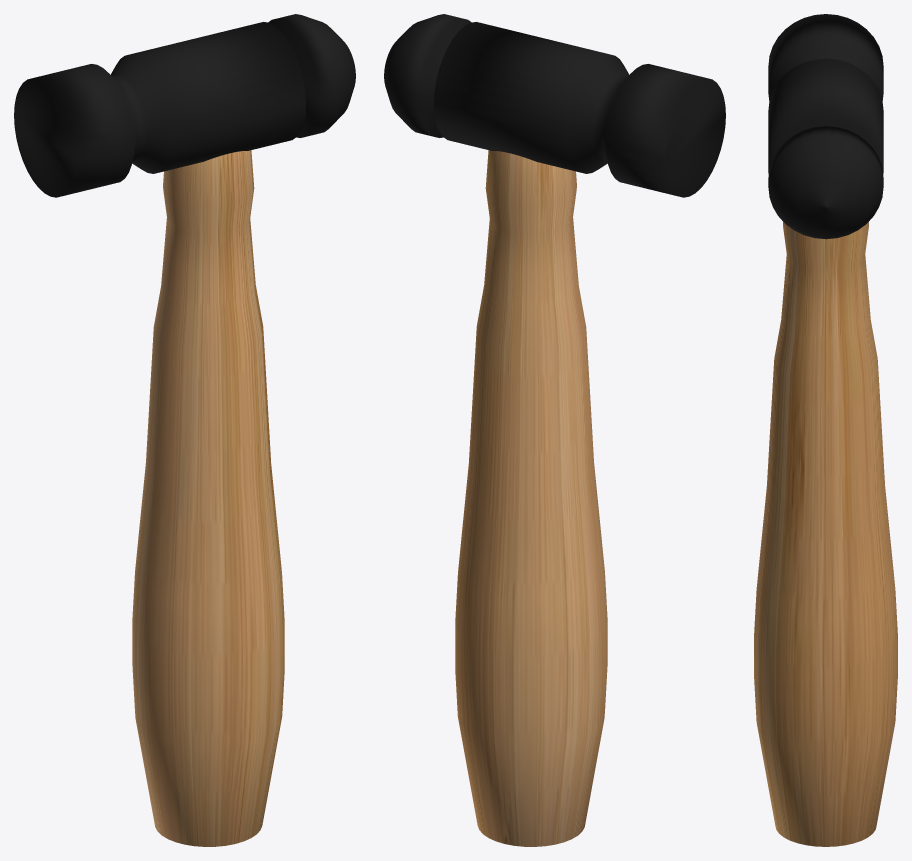
The model's file is Hammer.fbx.
3 views of the same model, side by side, from view 1: azimuth 30°, elevation 25°; view 2: azimuth 150°, elevation 25°; view 3: azimuth 270°, elevation 25° (orthographic). The views are drawn at different scales.
Parts seen in each view (by area): view 1: Handle, Head; view 2: Handle, Head; view 3: Handle, Head.
Boxes of the visible parts, box(x1,y1,x2,y2) form: Handle: box(132, 150, 284, 846); Head: box(14, 14, 355, 197); Handle: box(455, 150, 607, 846); Head: box(384, 14, 725, 197); Handle: box(754, 222, 897, 846); Head: box(768, 14, 883, 239).
Size of the model in its own units: 27.63 by 67.15 by 11.88.
